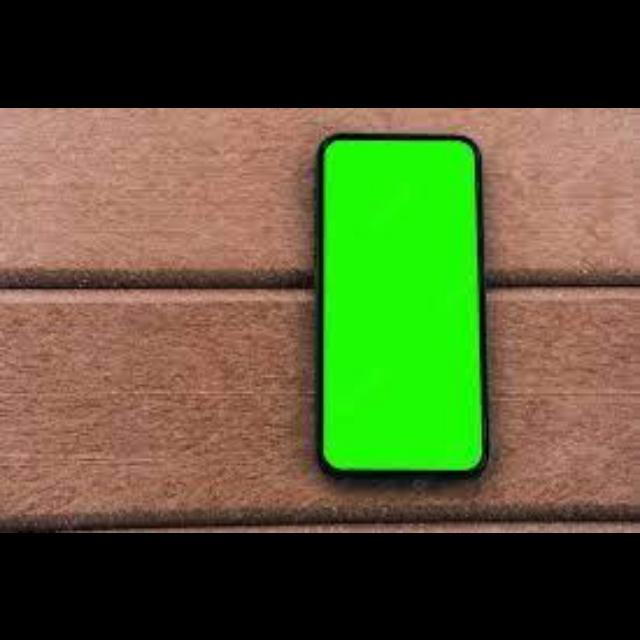Phone: (315, 130, 491, 480)
